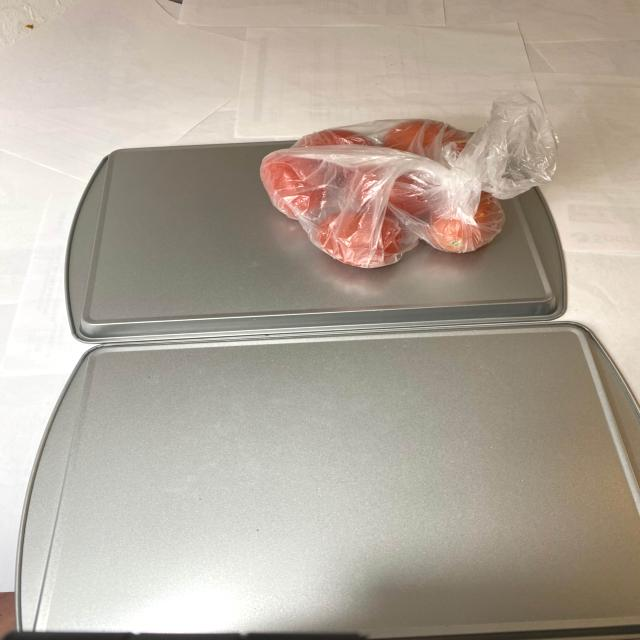tomato: (254, 122, 510, 276)
